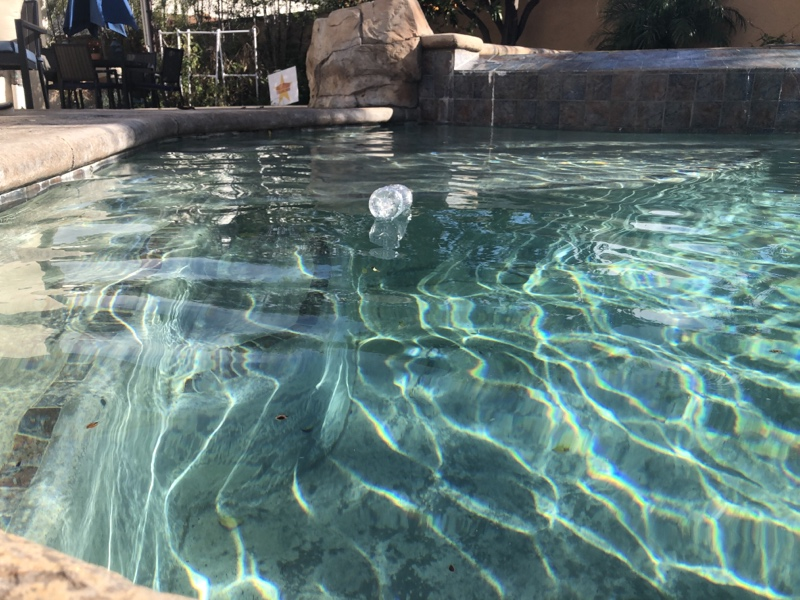Plastic Bottle: (364, 181, 417, 223)
